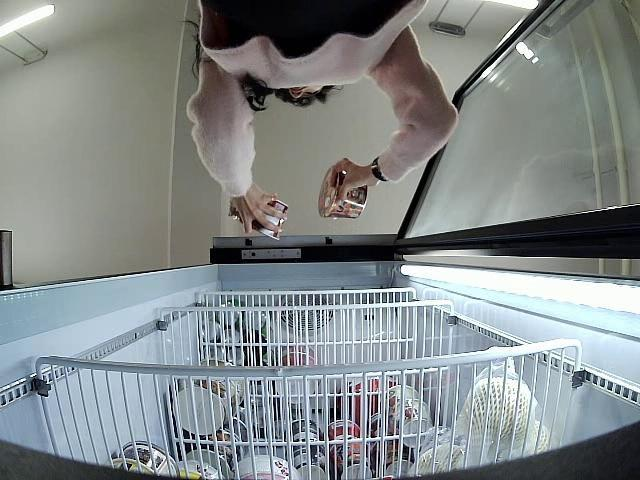05_nuguri_L: (318, 165, 367, 221), (228, 196, 288, 240)
